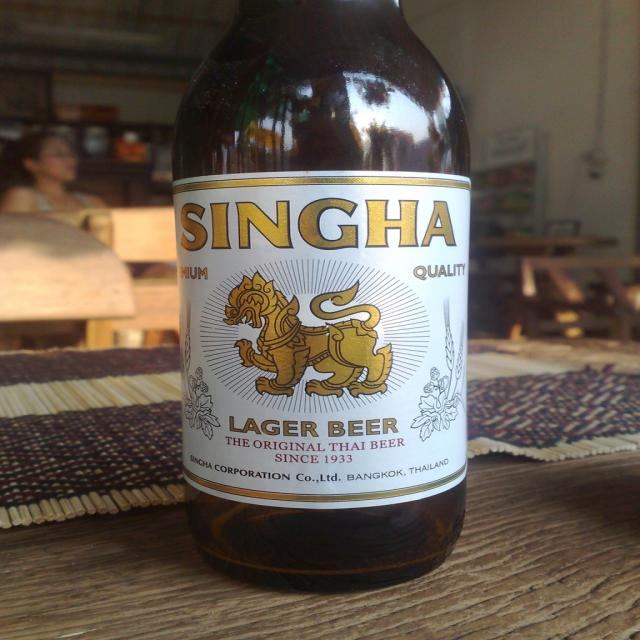singha: (174, 176, 472, 505)
